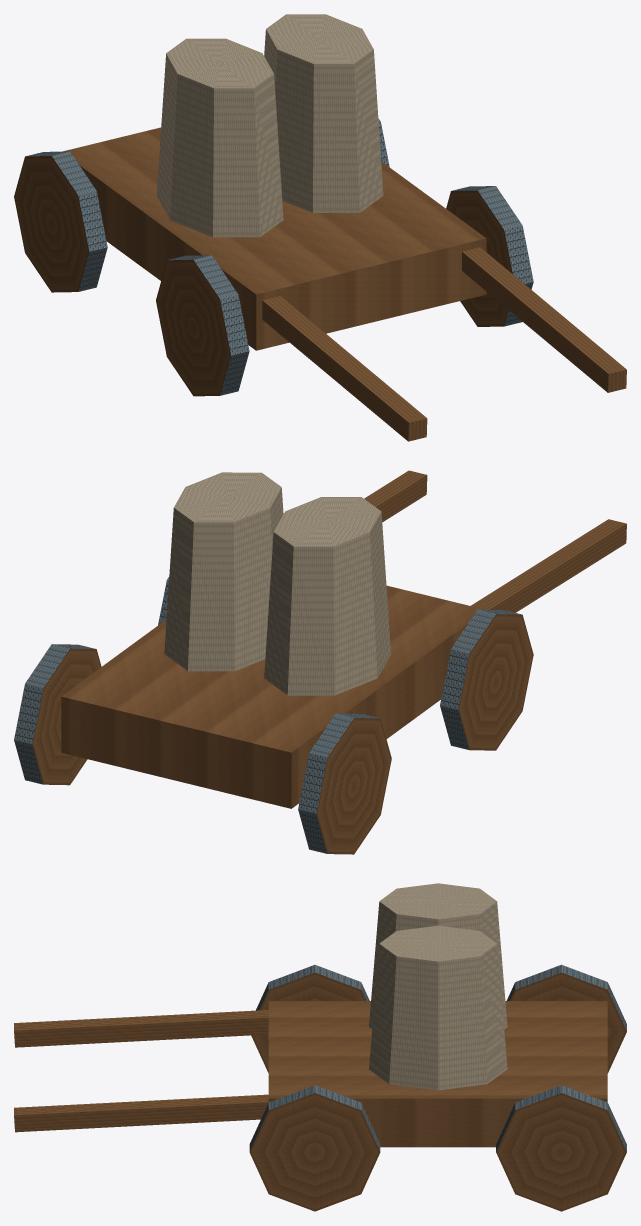
Rendered from unit-transport-lod1.glb.
3 renders of one model, top to bottom at view 1: azimuth 30°, elevation 25°; view 2: azimuth 150°, elevation 25°; view 3: azimuth 270°, elevation 25°, orthographic. The views are drawn at different scales.
Bounding box in the file's own units: 0.394 × 0.32 × 0.7957.
Materials: 1 (1 with a texture image).
